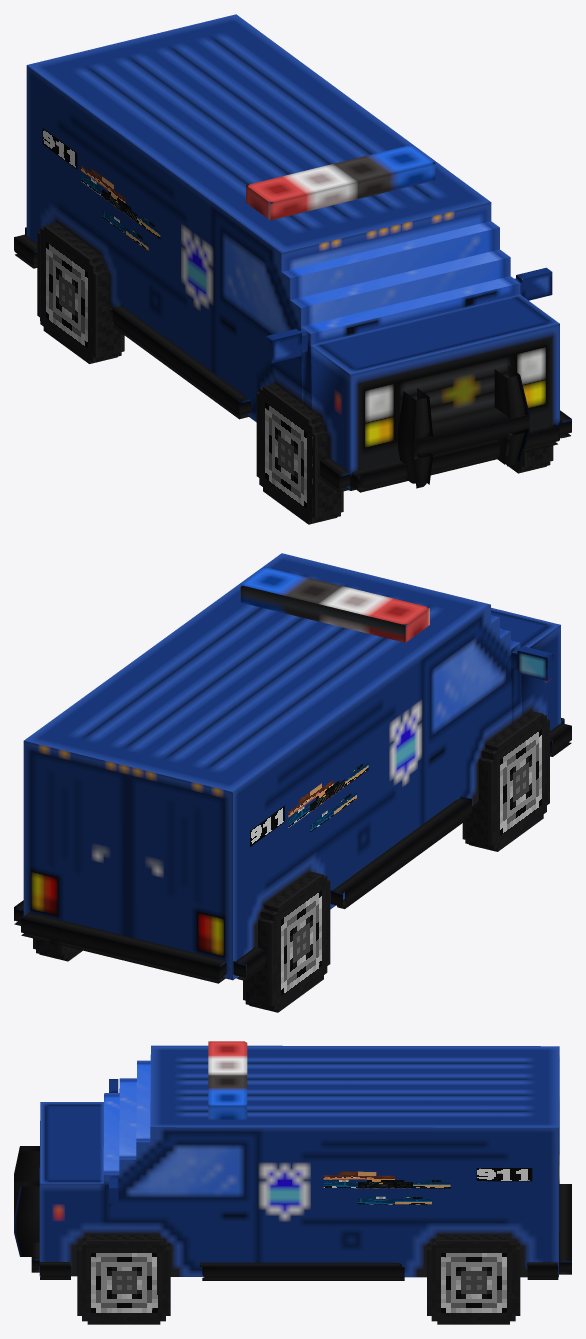
Rendered from BGN_POLICE VAN.fbx.
3 views of the same model, one above another, from view 1: azimuth 30°, elevation 25°; view 2: azimuth 150°, elevation 25°; view 3: azimuth 270°, elevation 25° (orthographic). The views are drawn at different scales.
Visible parts, largest first — view 1: BGN_POLICE_VAN, TIRE__3_, TIRE__1_, POLICE_TAG__3_, TIRE__2_; view 2: BGN_POLICE_VAN, TIRE__1_, TIRE__3_, POLICE_TAG__3_, TIRE__4_; view 3: BGN_POLICE_VAN, TIRE__2_, TIRE__4_, POLICE_TAG__2_.
Boxes of the visible parts, bbox=[...] form: BGN_POLICE_VAN: bbox=[14, 14, 571, 492]; TIRE__3_: bbox=[37, 223, 124, 363]; TIRE__1_: bbox=[256, 383, 343, 524]; POLICE_TAG__3_: bbox=[81, 165, 160, 250]; TIRE__2_: bbox=[505, 445, 553, 473]; BGN_POLICE_VAN: bbox=[14, 553, 571, 983]; TIRE__1_: bbox=[462, 711, 549, 851]; TIRE__3_: bbox=[243, 871, 330, 1012]; POLICE_TAG__3_: bbox=[288, 762, 368, 832]; TIRE__4_: bbox=[33, 938, 82, 961]; BGN_POLICE_VAN: bbox=[14, 1041, 571, 1280]; TIRE__2_: bbox=[77, 1234, 170, 1324]; TIRE__4_: bbox=[427, 1235, 520, 1324]; POLICE_TAG__2_: bbox=[323, 1171, 450, 1204].
Size of the model in its own units: 268 by 235 by 579.
